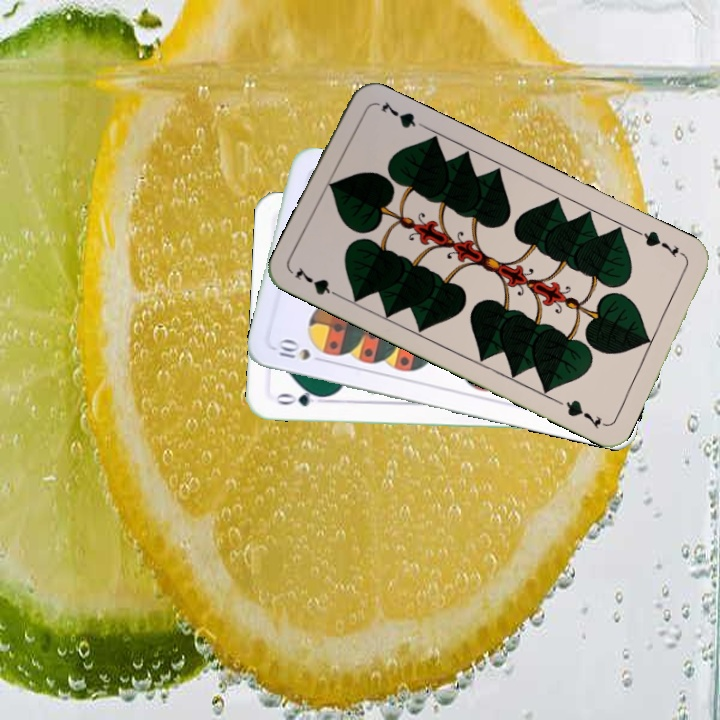G7: (291, 263, 346, 301), (633, 226, 689, 261)
GO: (270, 386, 329, 410)
S10: (271, 336, 314, 363)
